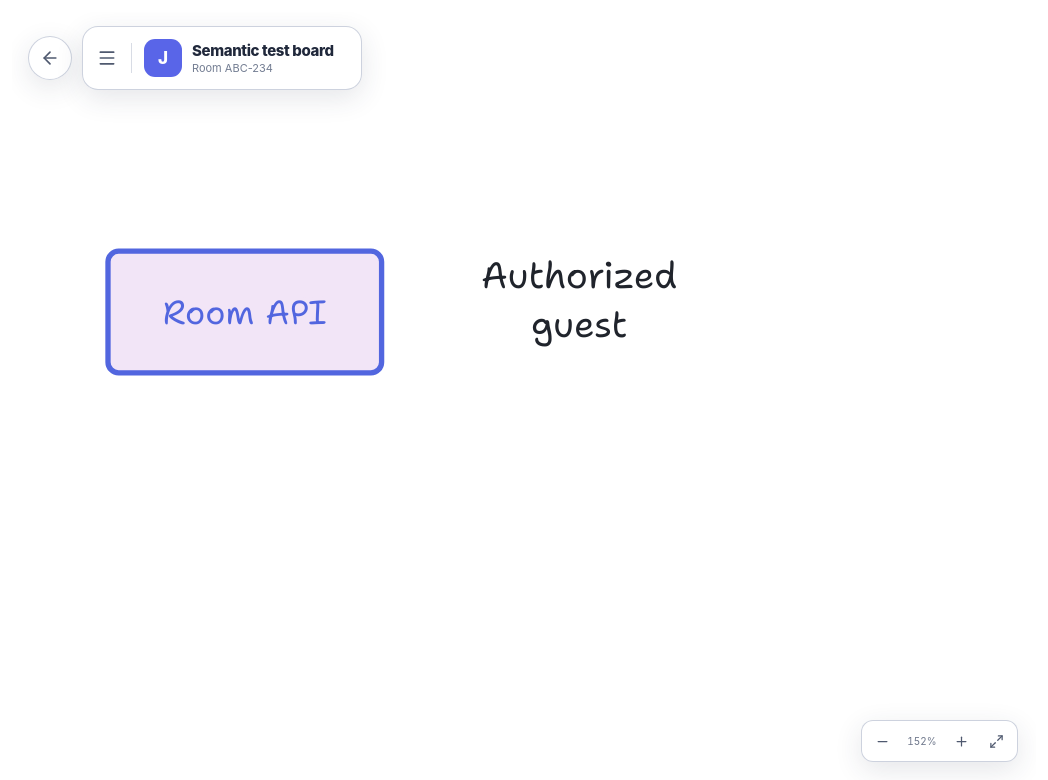
Scenario: SemanticCanvas › preserves compact room identity and accessible board-menu parity
expect the element with test id "combined-left-panel" shows "Semantic test board": met, box [192,40,334,60]
expect the element with test id "combined-left-panel" shows "Room ABC-234": met, box [82,26,362,90]
Click the button named "Board menu" at (107, 58), box [83,27,131,89]
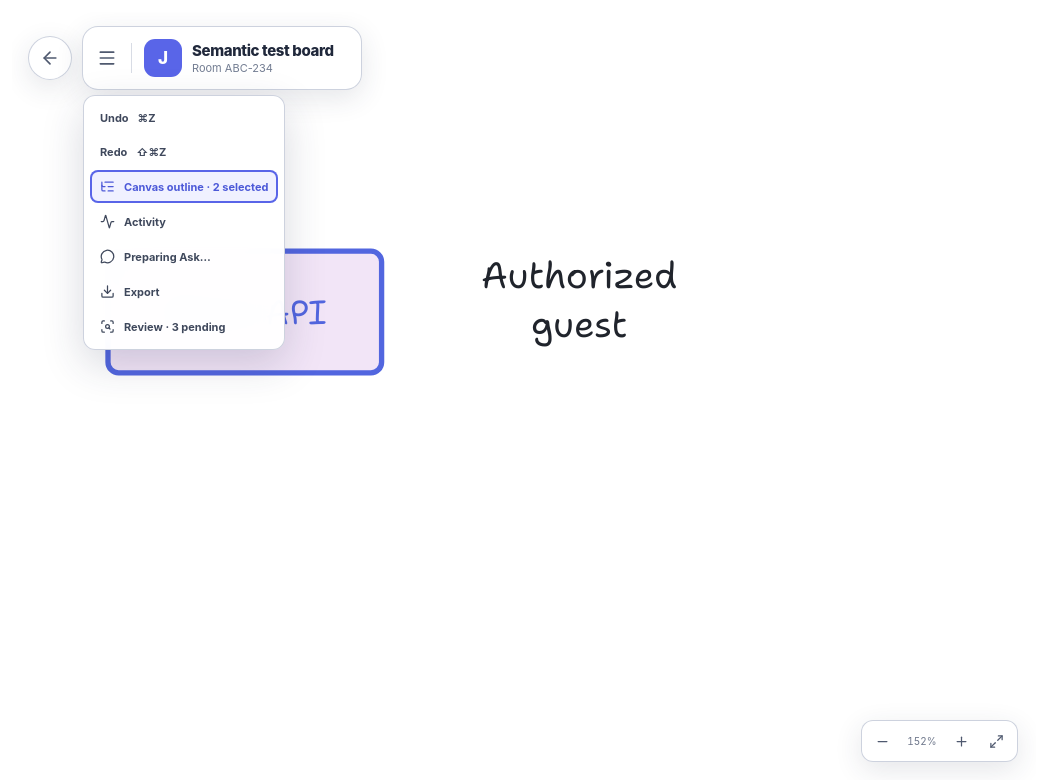
expect the menu item "Preparing Ask…" is disabled: met, box [90,240,278,273]
expect the menu item "Review · 3 pending" is enabled: met, box [90,310,278,343]
expect the menu item "Undo ⌘Z" is disabled: met, box [90,102,278,134]
Press Escape in the menu, box [83,95,285,350]
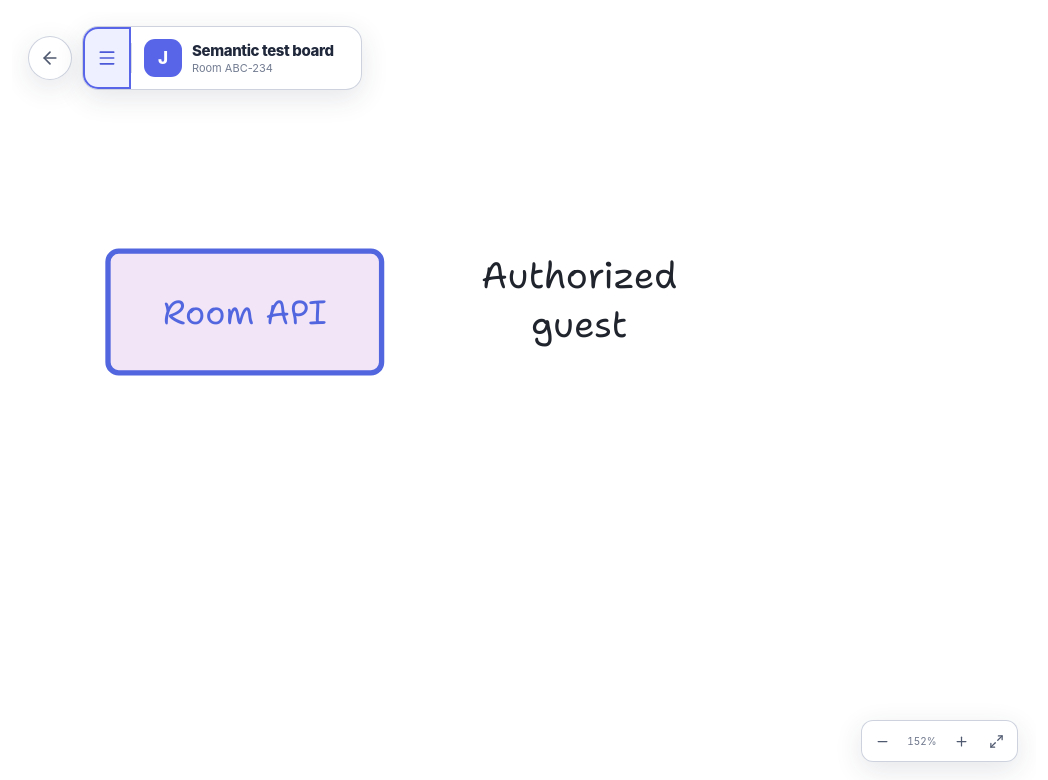
expect the menu is gone: met
